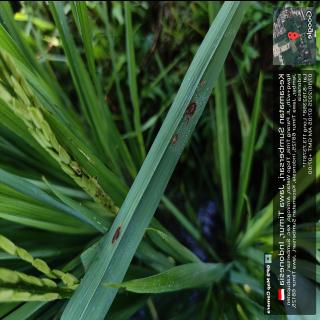Blast: (183, 100, 195, 130), (110, 223, 122, 246), (169, 132, 179, 146), (199, 78, 205, 86)
